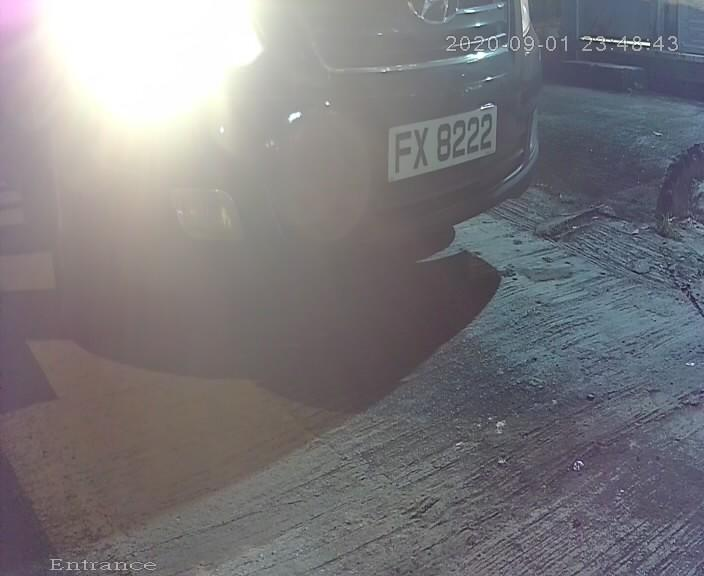License Plate: (371, 96, 500, 188)
